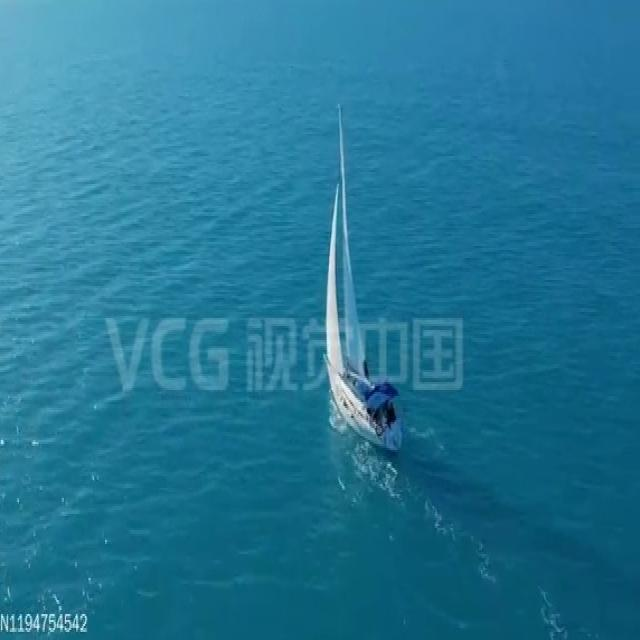sailboat: (324, 98, 403, 443)
